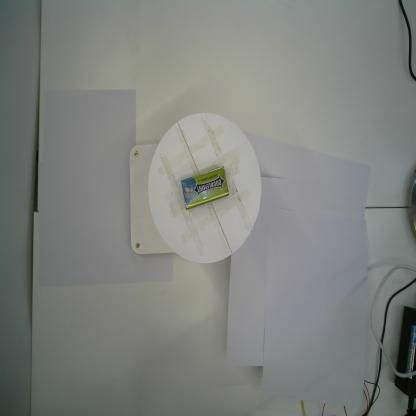Gum: (181, 166, 229, 210)
